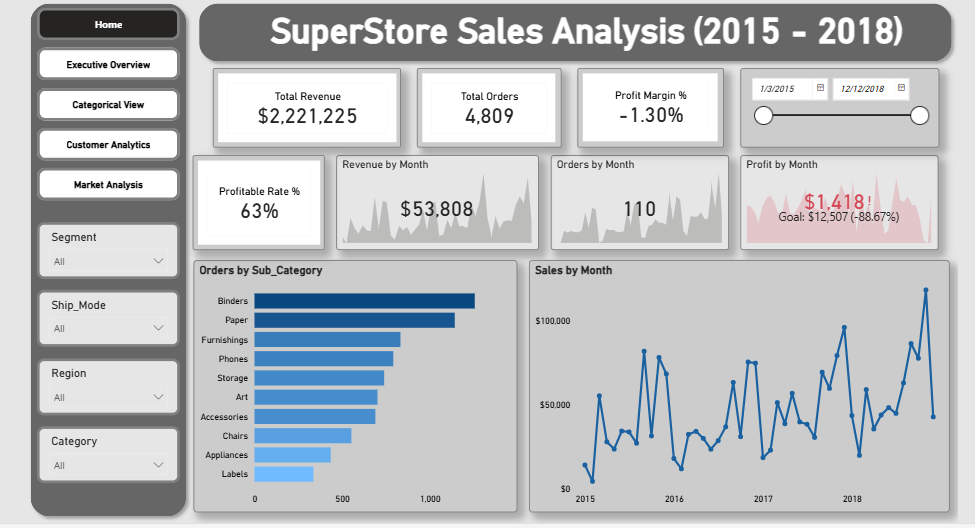

This screenshot's page, from the dashboard's own definition file:
{"tool":"powerbi","page":{"name":"Home","canvas":[1280,720],"ordinal":0},"visuals":[{"type":"shape","box":[0,0,231.1,720.4],"z":0},{"type":"kpi","title":"Orders by Month","fields":{"Indicator":["order_details_fact.Total Orders"],"TrendLine":["orders_dim.Start of Month"]},"box":[721.2,216.8,244.1,130.3],"z":1000},{"type":"cardVisual","fields":{"Data":["order_details_fact.Total Orders"]},"box":[538.3,97.2,197.9,109],"z":2000},{"type":"cardVisual","fields":{"Data":["order_details_fact.Profit Margin %"]},"box":[757.9,97.2,201.4,109],"z":3000},{"type":"kpi","title":"Revenue by Month","fields":{"Indicator":["order_details_fact.Revenue (M)"],"TrendLine":["orders_dim.Start of Month"]},"box":[428.1,216.8,277.3,130.3],"z":4000},{"type":"kpi","title":"Profit by Month","fields":{"TrendLine":["orders_dim.Start of Month"],"Goal":["order_details_fact.Profit (M)"],"Indicator":["order_details_fact.Total Profit"]},"box":[981.1,216.8,271.3,130.3],"z":5000},{"type":"cardVisual","fields":{"Data":["order_details_fact.Total Revenue"]},"box":[258.3,97.2,258.3,109],"z":6000},{"type":"shape","box":[231.1,0,1048.6,97.2],"z":7000},{"type":"textbox","box":[316.4,13,908.8,72.3],"z":9000},{"type":"slicer","fields":{"Values":["orders_dim.Order_Date"]},"box":[981.1,97.2,272.5,109],"z":10000},{"type":"clusteredBarChart","title":" Orders by Sub_Category","fields":{"Y":["order_details_fact.Total Orders"],"Category":["products_dim.Sub_Category"]},"box":[232,360,444,346],"z":14000},{"type":"lineChart","title":"Sales  by  Month","fields":{"Y":["order_details_fact.Total Revenue"],"Category":["orders_dim.Start of Month"]},"box":[692,360.2,577.1,346],"z":15000},{"type":"cardVisual","fields":{"Data":["order_details_fact.Profitable Rate %"]},"box":[231.1,216.8,181.3,130.3],"z":16000},{"type":"slicer","fields":{"Values":["customers_dim.Segment"]},"box":[18,308,196,78],"z":17500},{"type":"slicer","fields":{"Values":["orders_dim.Ship_Mode"]},"box":[18,401.3,196,78],"z":18000},{"type":"slicer","fields":{"Values":["customers_dim.Region"]},"box":[18,494.7,196,78],"z":18500},{"type":"slicer","fields":{"Values":["products_dim.Category"]},"box":[18,588,196,78],"z":19000},{"type":"pageNavigator","box":[18,14,196,268],"z":19500}]}

Visuals, with their boxes on the page's 1280x720 design canvas (x1, y1, x2, y2). These are canvas units, not pixel positions in the 975x528 screenshot, which may show the page scaled, cropped or inside an application window:
shape: BBox(0, 0, 231, 720)
"Orders by Month" kpi: BBox(721, 217, 965, 347)
cardVisual - order_details_fact.Total Orders: BBox(538, 97, 736, 206)
cardVisual - order_details_fact.Profit Margin %: BBox(758, 97, 959, 206)
"Revenue by Month" kpi: BBox(428, 217, 705, 347)
"Profit by Month" kpi: BBox(981, 217, 1252, 347)
cardVisual - order_details_fact.Total Revenue: BBox(258, 97, 517, 206)
shape: BBox(231, 0, 1280, 97)
textbox: BBox(316, 13, 1225, 85)
slicer - orders_dim.Order_Date: BBox(981, 97, 1254, 206)
" Orders by Sub_Category" clusteredBarChart: BBox(232, 360, 676, 706)
"Sales  by  Month" lineChart: BBox(692, 360, 1269, 706)
cardVisual - order_details_fact.Profitable Rate %: BBox(231, 217, 412, 347)
slicer - customers_dim.Segment: BBox(18, 308, 214, 386)
slicer - orders_dim.Ship_Mode: BBox(18, 401, 214, 479)
slicer - customers_dim.Region: BBox(18, 495, 214, 573)
slicer - products_dim.Category: BBox(18, 588, 214, 666)
pageNavigator: BBox(18, 14, 214, 282)
